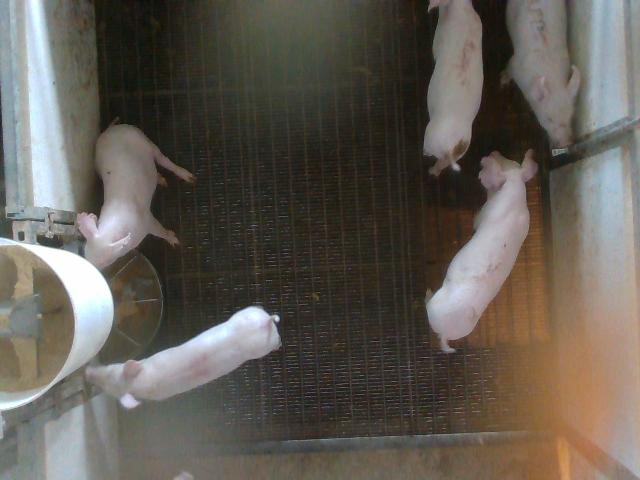pig-3: (502, 0, 580, 148)
pig-4: (86, 306, 281, 409)
pig-5: (424, 0, 482, 176)
